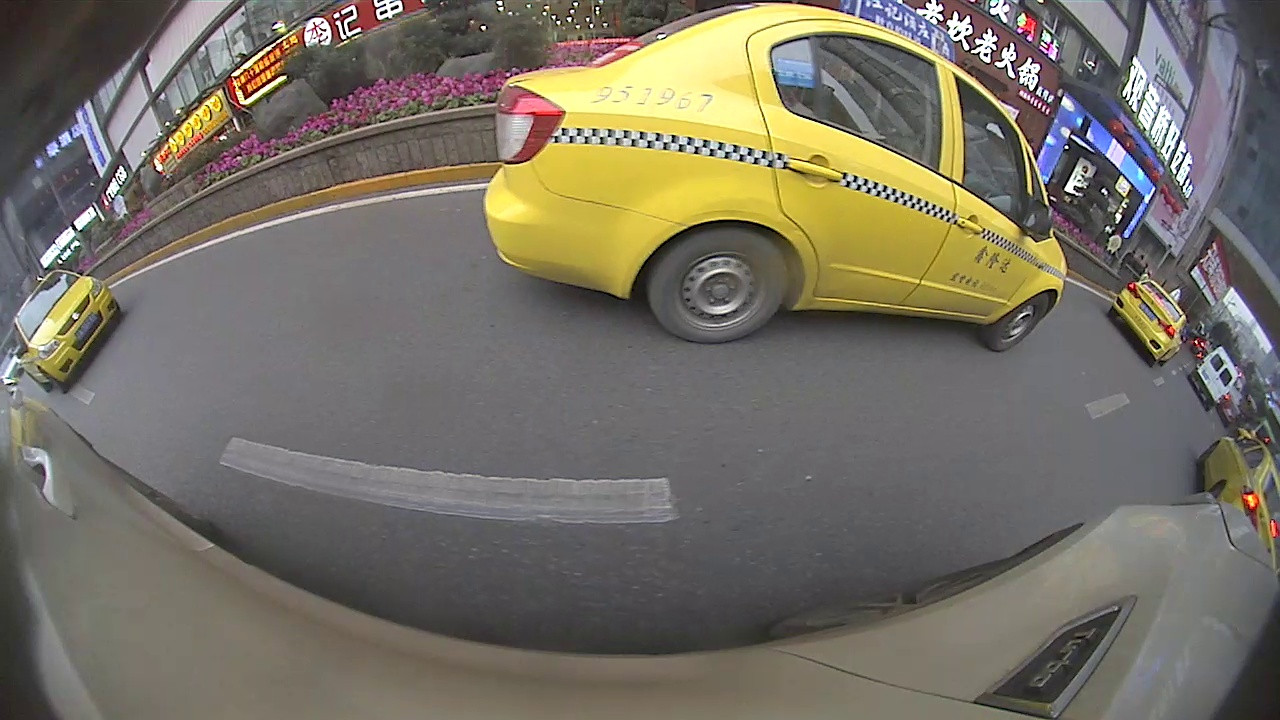car: (482, 2, 1070, 353), (7, 269, 123, 392), (1192, 428, 1279, 568), (1107, 272, 1188, 367), (1188, 344, 1240, 408)
front: (986, 292, 1053, 353), (37, 369, 67, 397), (1193, 442, 1222, 464)
rear: (646, 226, 789, 345), (1206, 484, 1226, 500)
